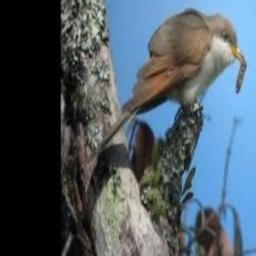Cuckoo: (97, 8, 244, 155)
